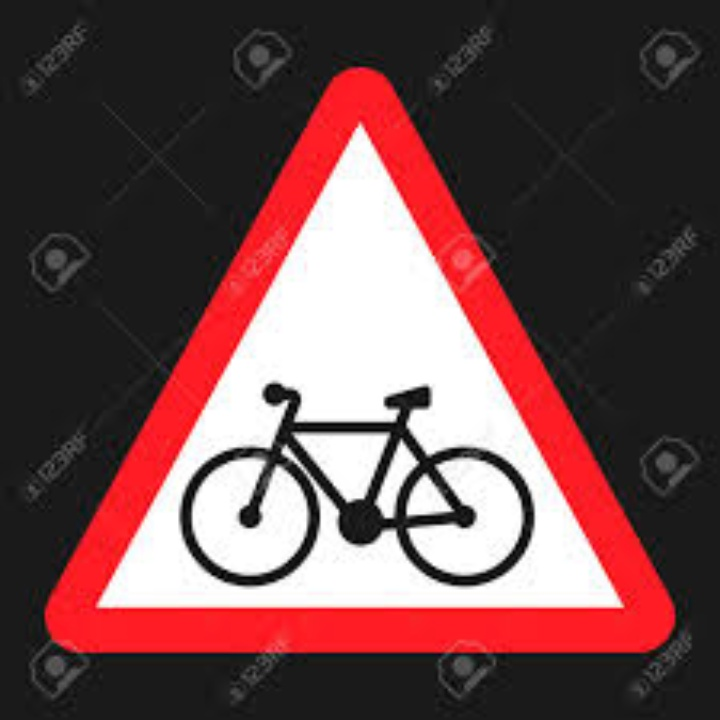bicycle: (181, 379, 537, 587)
